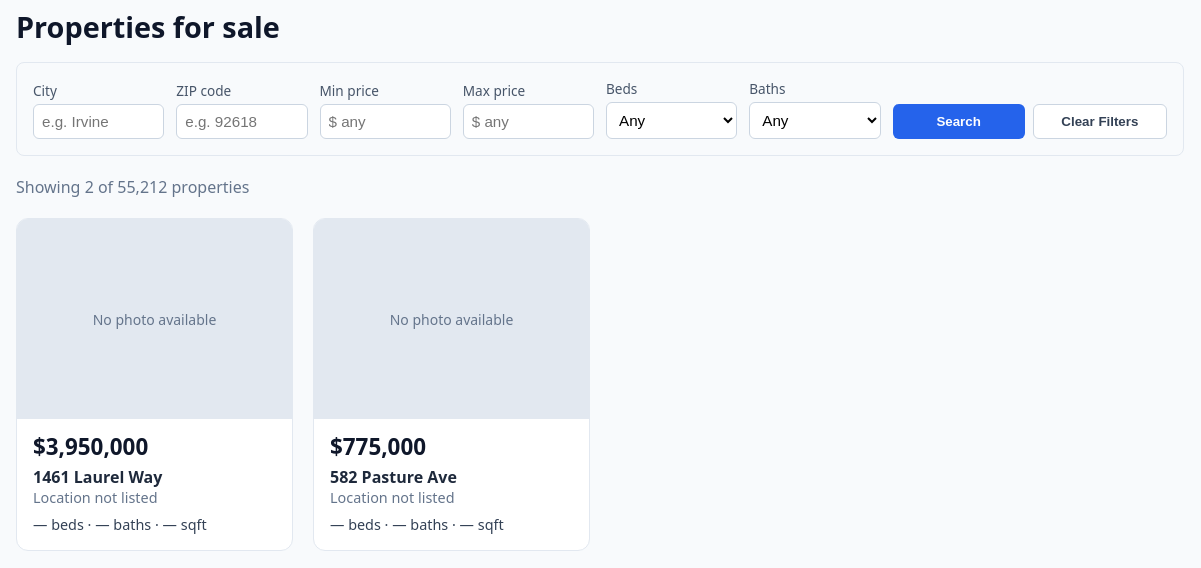
Test: ignores a slow old answer that arrives after a newer search (race condition)
Click the button "Clear Filters".
click(1100, 122)  # box [1033,104,1167,139]
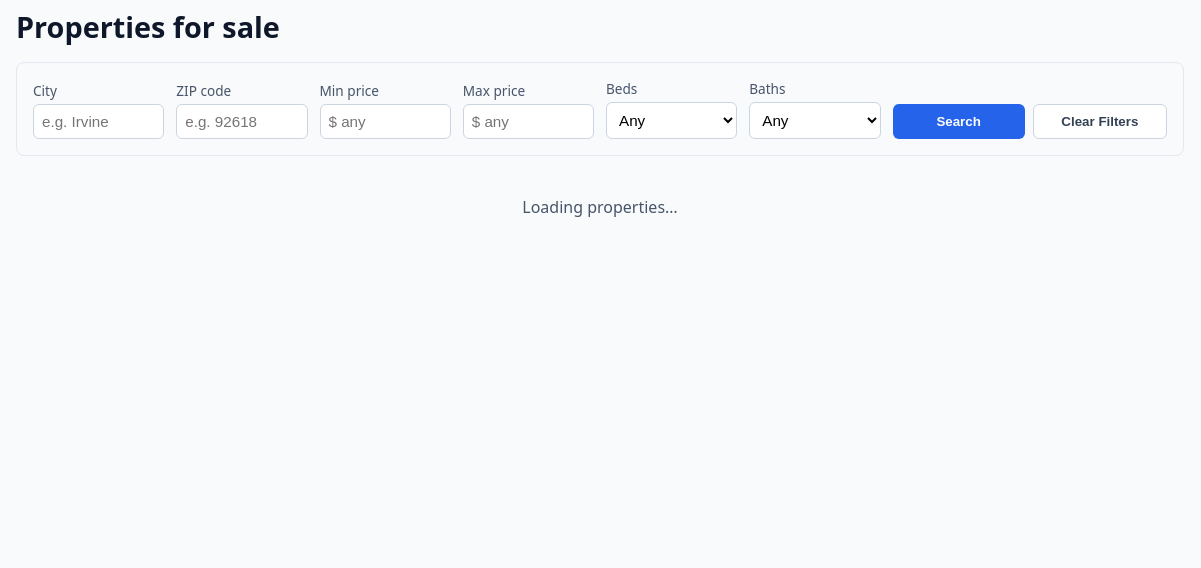
Type "Irvine" into the field labelled "City".
click(99, 122); type("Irvine")  # box [33,104,164,139]
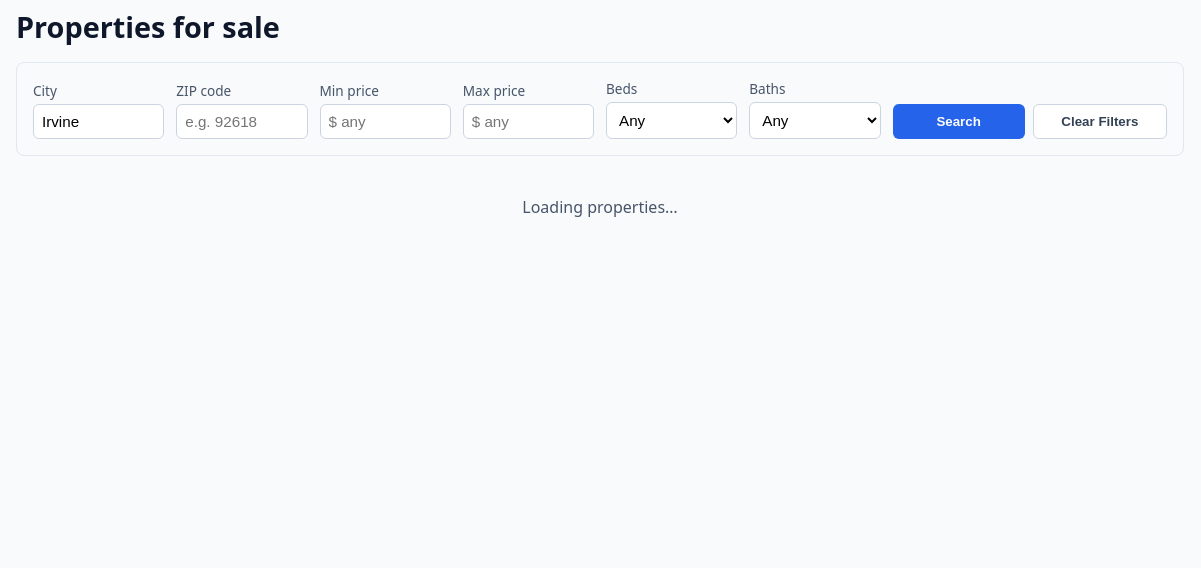
Click the button "Search".
click(959, 122)  # box [892,104,1025,139]
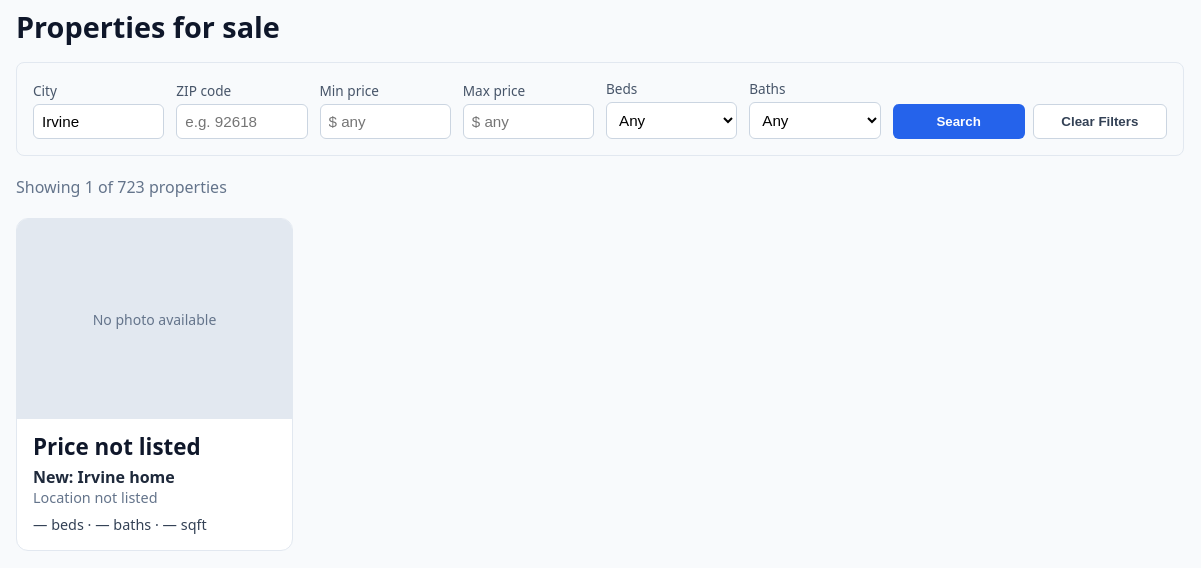
Expected: the text "New: Irvine home" is shown, [33,466,175,488]
Expected: the text "Showing 1 of 723 properties" is shown, [16,176,227,198]
